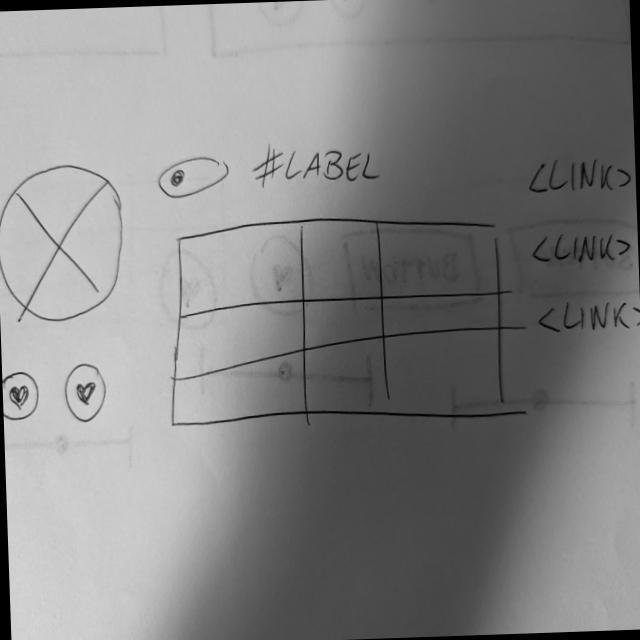icon-button: (62, 359, 106, 424), (2, 367, 40, 420)
image: (0, 160, 128, 325)
label: (251, 139, 383, 190)
link: (524, 152, 633, 198), (534, 292, 640, 338), (528, 227, 634, 269)
table: (164, 207, 511, 432)
toggle: (156, 152, 232, 200)
